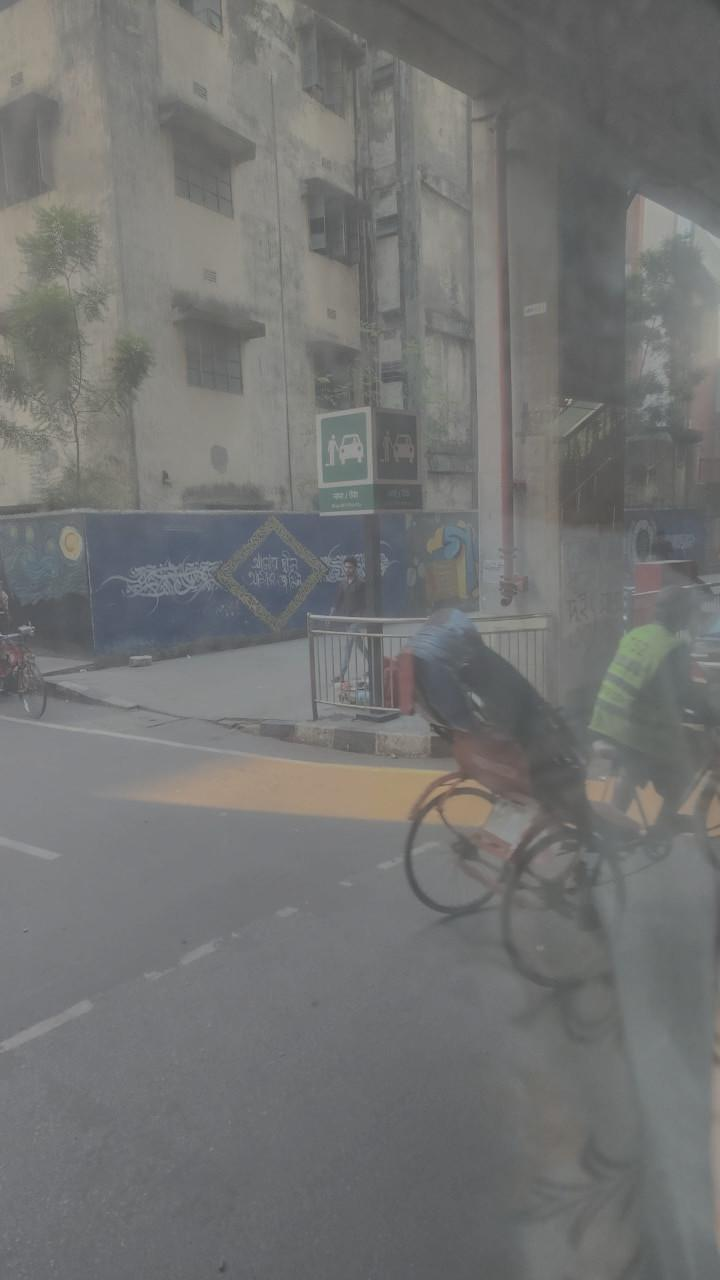Metro Dorp Up Pick up: (316, 407, 422, 515)
